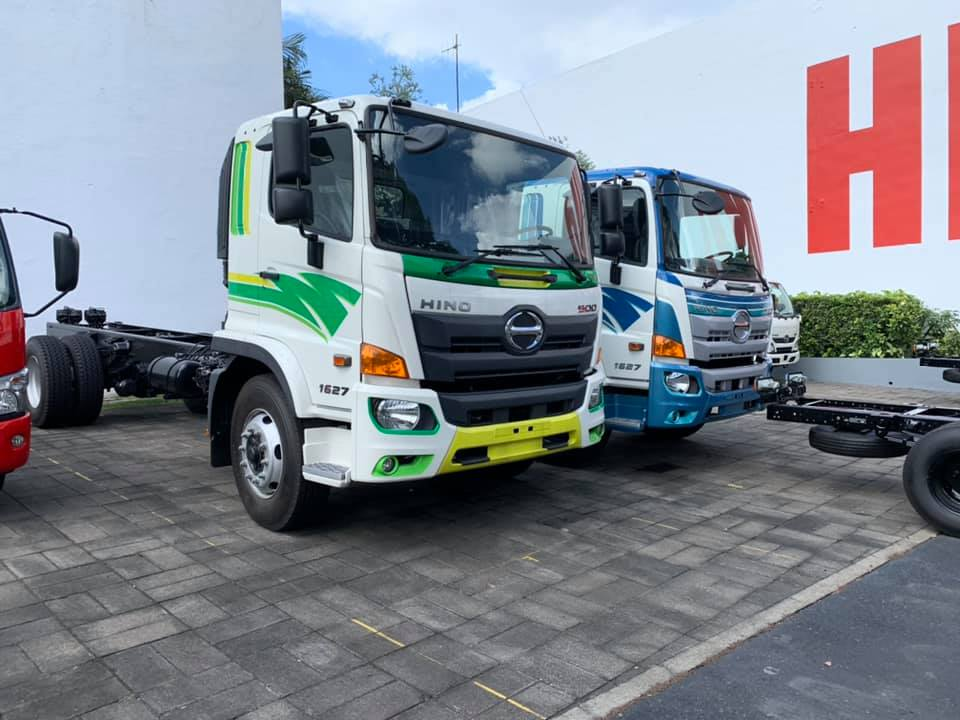camion: (21, 80, 600, 530)
